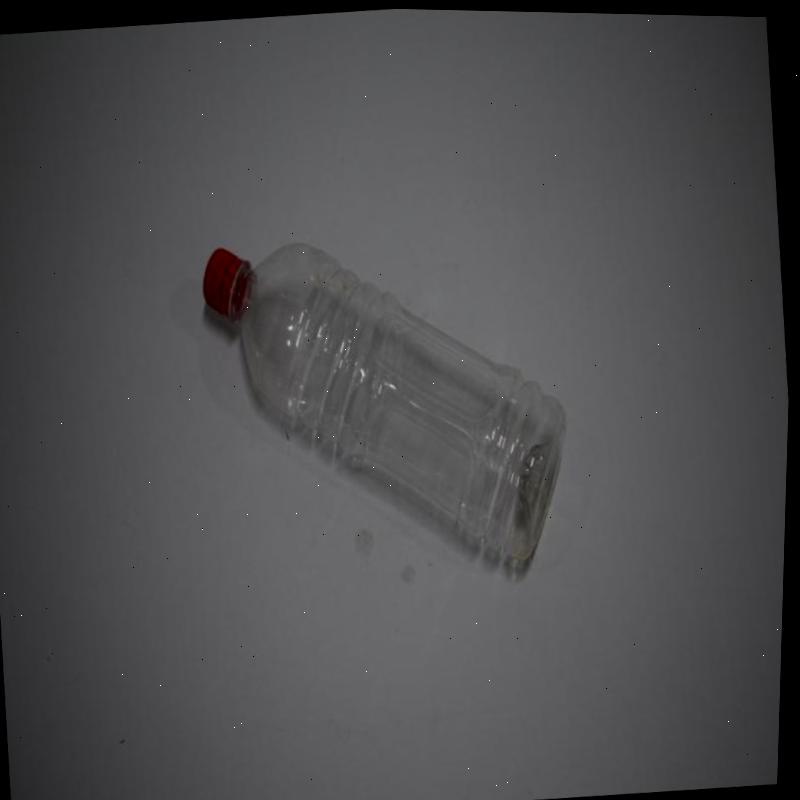botella: (192, 203, 588, 610)
